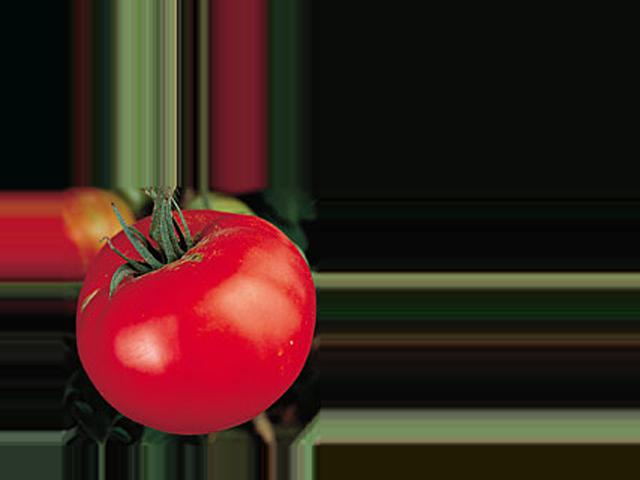tomato: (78, 210, 315, 435)
